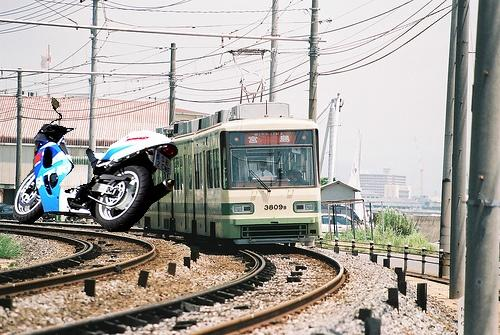tampered: (14, 98, 178, 232)
